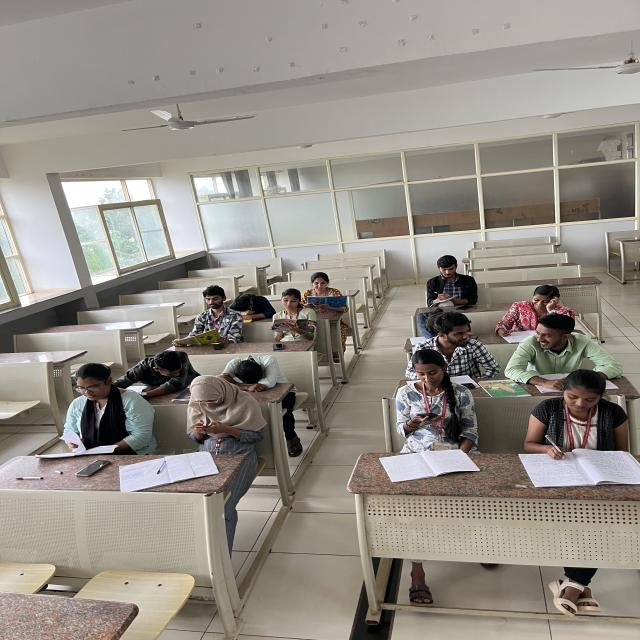Reading: (40, 363, 150, 463), (171, 282, 243, 347), (270, 286, 314, 339), (299, 270, 347, 315)
Sleeping: (218, 352, 284, 393), (230, 290, 278, 322)
Using Phone: (400, 344, 474, 438), (179, 372, 250, 438)
Writing: (523, 374, 632, 479), (493, 284, 581, 342), (424, 254, 481, 310)
